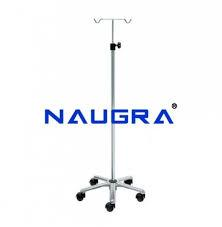Saline Stand: (75, 15, 146, 212)
